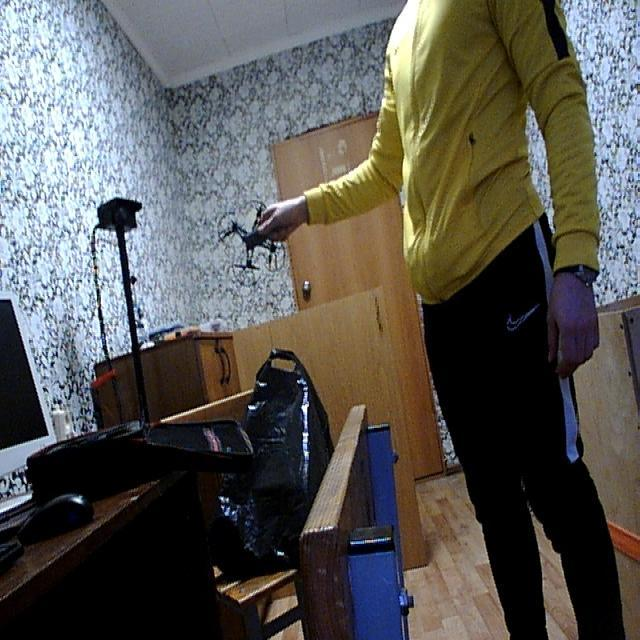drone: (214, 194, 294, 289)
